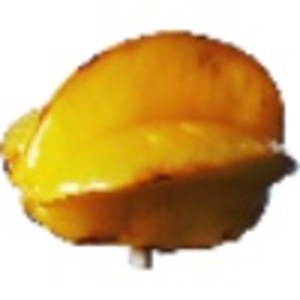carambola: (1, 29, 300, 272)
